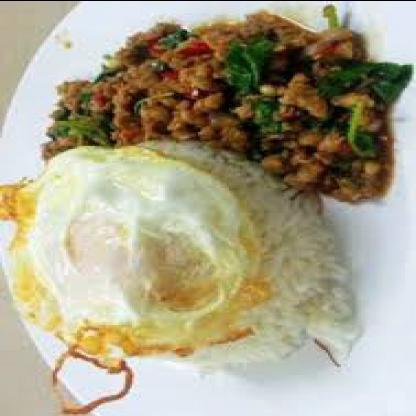Basil Rice: (28, 1, 415, 398)
